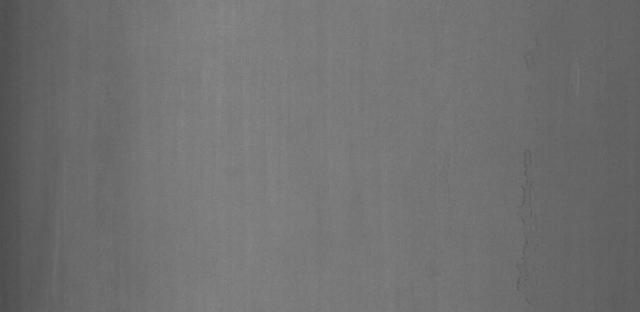silk_spot: (511, 135, 557, 279)
